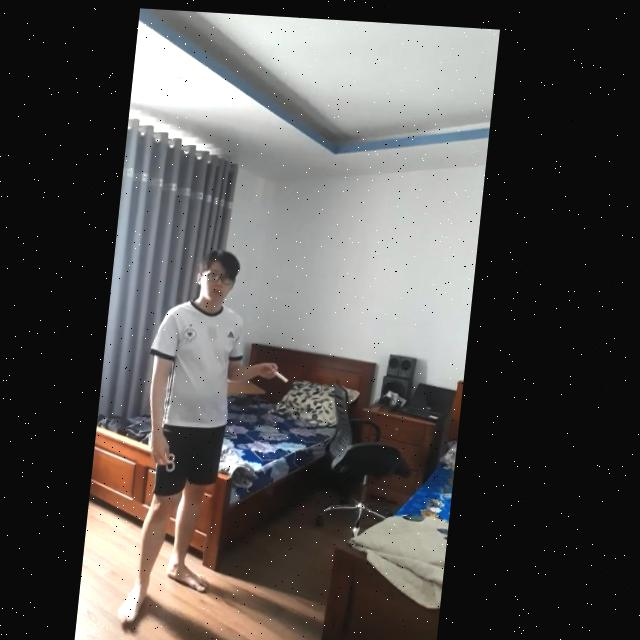cigarette: (277, 364, 298, 379)
